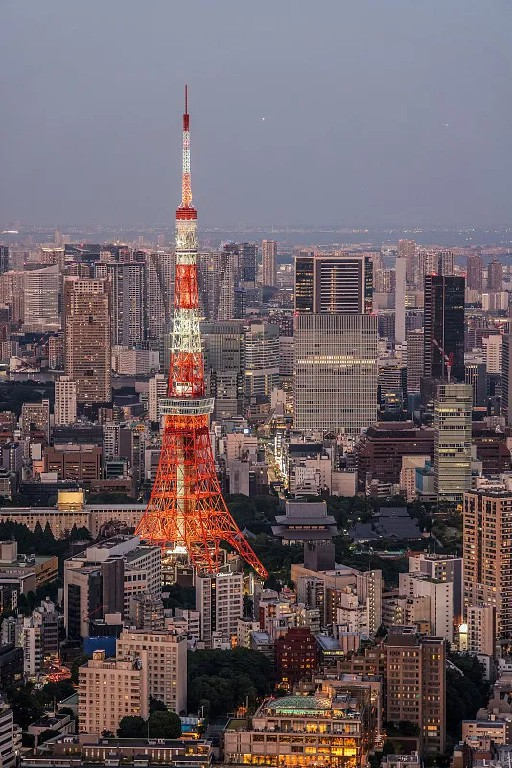Tokyo: (133, 73, 270, 584)
